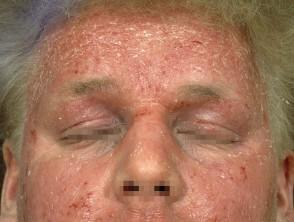Eczema: (223, 24, 251, 69), (37, 31, 61, 79), (179, 26, 212, 58), (254, 96, 276, 144), (127, 68, 162, 98), (21, 118, 48, 153), (194, 198, 233, 222), (125, 98, 156, 126), (123, 203, 168, 222), (212, 154, 236, 184), (99, 25, 134, 45), (175, 158, 199, 187), (191, 60, 220, 83), (166, 96, 203, 114), (231, 156, 255, 183), (66, 59, 94, 82), (122, 137, 150, 160), (30, 203, 61, 222), (87, 48, 113, 70), (233, 93, 256, 117), (52, 178, 75, 202), (68, 197, 94, 218), (72, 29, 97, 49), (81, 174, 96, 205), (92, 206, 114, 222)
